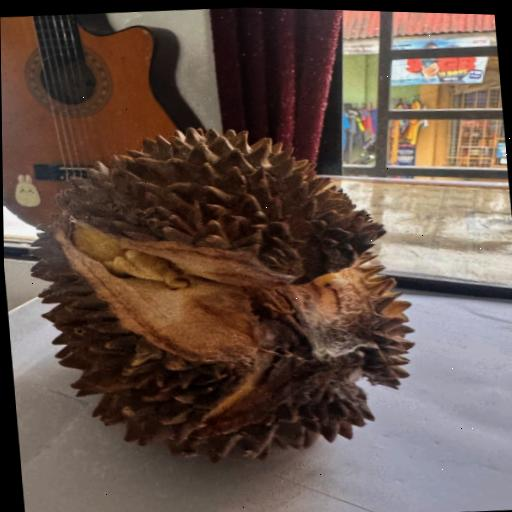rot: (2, 106, 451, 496)
